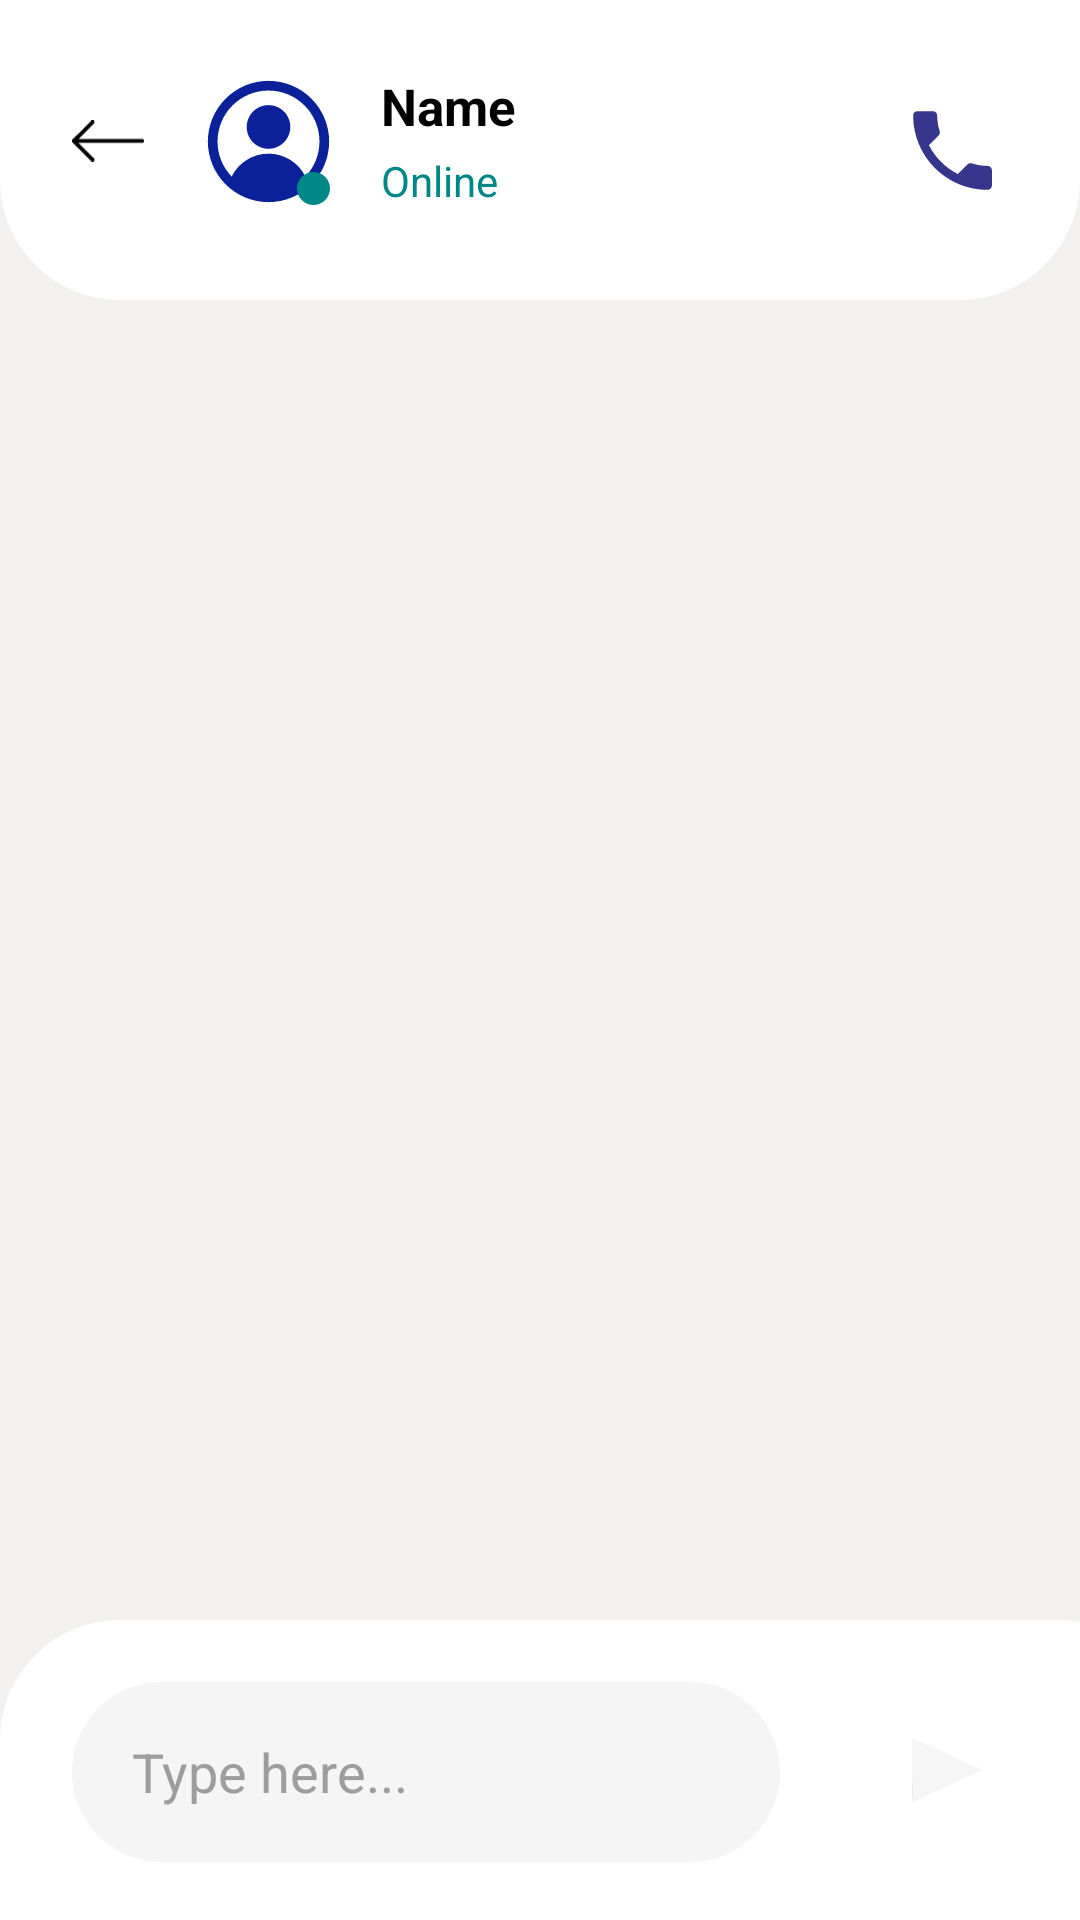

Where icons sit on this 1080×1920 app screen, as (x1, y1, x2, y2):
left arrow: (72, 120, 144, 162)
phone: (913, 111, 992, 190)
